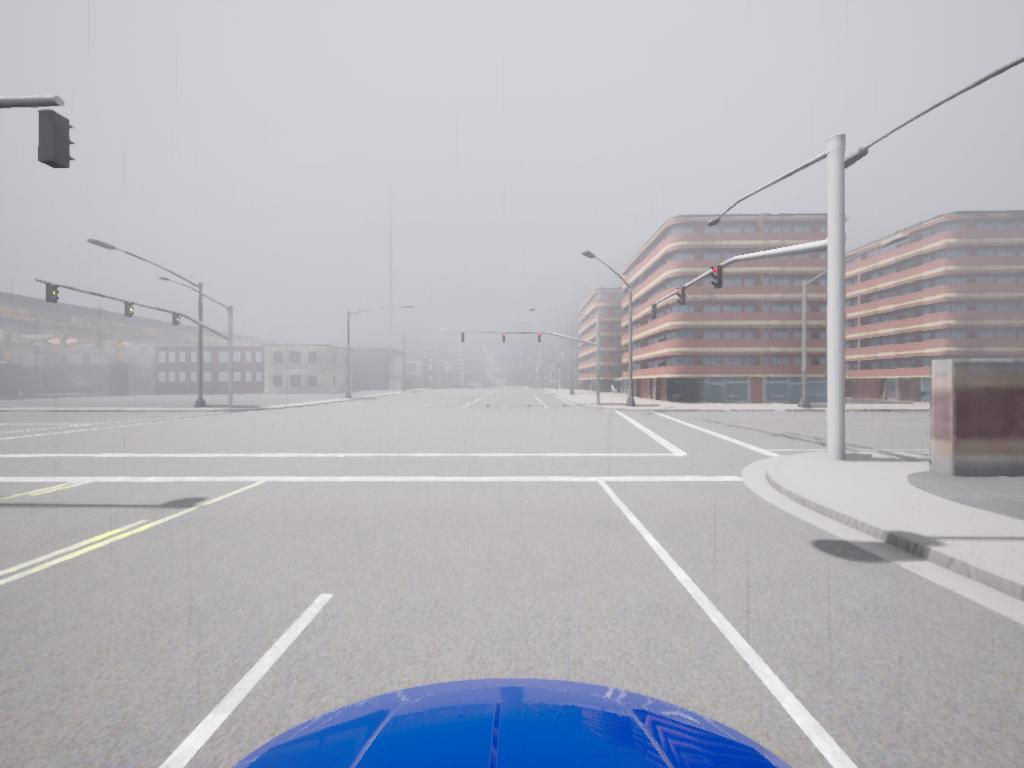traffic_light: (38, 108, 74, 171), (47, 283, 61, 305), (713, 266, 722, 289), (677, 287, 687, 306), (125, 303, 136, 317), (651, 304, 658, 319), (174, 313, 180, 327), (461, 333, 466, 344), (538, 333, 543, 343), (503, 332, 507, 344)
